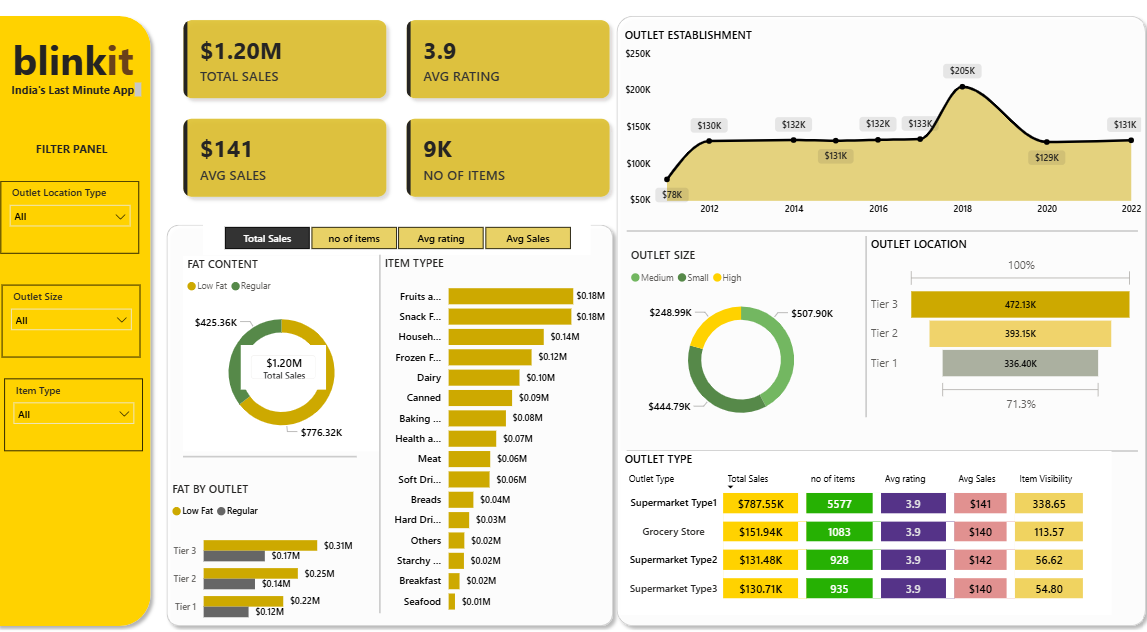

What the dashboard file says about the page in this screenshot:
{"tool":"powerbi","page":{"name":"Page 1","canvas":[1400,800],"ordinal":0},"visuals":[{"type":"shape","box":[0,15,204.1,750.4],"z":0},{"type":"textbox","box":[22.5,37.5,159.1,75],"z":1000},{"type":"textbox","box":[22.5,99.1,166.6,27],"z":2000},{"type":"cardVisual","fields":{"Data":["BlinkIT Grocery Data.Total Sales","BlinkIT Grocery Data.Avg rating","BlinkIT Grocery Data.Avg Sales","BlinkIT Grocery Data.no of items"]},"box":[205.6,0,570.3,270.2],"z":3000},{"type":"shape","box":[205.6,265.7,553.8,499.8],"z":4000},{"type":"donutChart","title":"FAT CONTENT","fields":{"Y":["BlinkIT Grocery Data.Total Sales"],"Category":["BlinkIT Grocery Data.Item Fat Content"]},"box":[234.1,312.2,237.1,234.1],"z":5000},{"type":"slicer","fields":{"Values":["Metrics.Metrics"]},"box":[258.1,270.2,465.3,40.5],"z":6000},{"type":"cardVisual","fields":{"Data":["BlinkIT Grocery Data.Total Sales"]},"box":[298.7,414.2,112.6,63],"z":7000},{"type":"clusteredBarChart","title":"FAT BY OUTLET","fields":{"Y":["BlinkIT Grocery Data.Total Sales"],"Category":["BlinkIT Grocery Data.Outlet Location Type"],"Series":["BlinkIT Grocery Data.Item Fat Content"]},"box":[216.1,582.3,226.6,183.1],"z":8000},{"type":"shape","box":[234.1,532.8,208.6,40.5],"z":9000},{"type":"shape","box":[457.8,310.7,25.5,430.7],"z":10000},{"type":"barChart","title":"ITEM TYPEE","fields":{"Y":["BlinkIT Grocery Data.Total Sales"],"Category":["BlinkIT Grocery Data.Item Type"]},"box":[471.3,310.7,274.7,441.3],"z":11000},{"type":"shape","box":[745.9,15,654.4,750.4],"z":12000},{"type":"lineChart","title":"OUTLET ESTABLISHMENT","fields":{"Category":["BlinkIT Grocery Data.Outlet Establishment Year"],"Y":["BlinkIT Grocery Data.Total Sales"]},"box":[759.4,37.5,630.4,235.6],"z":13000},{"type":"shape","box":[766.9,273.2,613.9,18],"z":14000},{"type":"donutChart","title":"OUTLET SIZE","fields":{"Y":["BlinkIT Grocery Data.Total Sales"],"Category":["BlinkIT Grocery Data.Outlet Size"]},"box":[766.9,301.7,275,225],"z":15000},{"type":"shape","box":[1041.6,288.2,25.5,217.6],"z":16000},{"type":"funnel","title":"OUTLET LOCATION","fields":{"Y":["Sum(BlinkIT Grocery Data.Sales)"],"Category":["BlinkIT Grocery Data.Outlet Location Type"]},"box":[1055.1,288.2,325.7,217.6],"z":17000},{"type":"shape","box":[766.9,537.3,613.9,18],"z":18000},{"type":"pivotTable","title":"OUTLET TYPE","fields":{"Rows":["BlinkIT Grocery Data.Outlet Type"],"Values":["BlinkIT Grocery Data.Total Sales","BlinkIT Grocery Data.no of items","BlinkIT Grocery Data.Avg rating","BlinkIT Grocery Data.Avg Sales","Sum(BlinkIT Grocery Data.Item Visibility)"]},"box":[759.4,546.3,589.8,196.6],"z":19000},{"type":"slicer","fields":{"Values":["BlinkIT Grocery Data.Outlet Location Type"]},"box":[15,222.1,166.6,87.1],"z":20000},{"type":"slicer","fields":{"Values":["BlinkIT Grocery Data.Outlet Size"]},"box":[16.5,346.7,166.6,87.1],"z":21000},{"type":"slicer","fields":{"Values":["BlinkIT Grocery Data.Item Type"]},"box":[19.5,459.3,166.6,87.1],"z":22000},{"type":"textbox","box":[15,168.1,171.1,36],"z":22001}]}

Visuals, with their boxes on the page's 1400x800 design canvas (x1, y1, x2, y2). These are canvas units, not pixel positions in the 1147x632 screenshot, which may show the page scaled, cropped or inside an application window:
shape: [x1=0, y1=15, x2=204, y2=765]
textbox: [x1=22, y1=38, x2=182, y2=112]
textbox: [x1=22, y1=99, x2=189, y2=126]
cardVisual - BlinkIT Grocery Data.Total Sales x BlinkIT Grocery Data.Avg rating: [x1=206, y1=0, x2=776, y2=270]
shape: [x1=206, y1=266, x2=759, y2=766]
"FAT CONTENT" donutChart: [x1=234, y1=312, x2=471, y2=546]
slicer - Metrics.Metrics: [x1=258, y1=270, x2=723, y2=311]
cardVisual - BlinkIT Grocery Data.Total Sales: [x1=299, y1=414, x2=411, y2=477]
"FAT BY OUTLET" clusteredBarChart: [x1=216, y1=582, x2=443, y2=765]
shape: [x1=234, y1=533, x2=443, y2=573]
shape: [x1=458, y1=311, x2=483, y2=741]
"ITEM TYPEE" barChart: [x1=471, y1=311, x2=746, y2=752]
shape: [x1=746, y1=15, x2=1400, y2=765]
"OUTLET ESTABLISHMENT" lineChart: [x1=759, y1=38, x2=1390, y2=273]
shape: [x1=767, y1=273, x2=1381, y2=291]
"OUTLET SIZE" donutChart: [x1=767, y1=302, x2=1042, y2=527]
shape: [x1=1042, y1=288, x2=1067, y2=506]
"OUTLET LOCATION" funnel: [x1=1055, y1=288, x2=1381, y2=506]
shape: [x1=767, y1=537, x2=1381, y2=555]
"OUTLET TYPE" pivotTable: [x1=759, y1=546, x2=1349, y2=743]
slicer - BlinkIT Grocery Data.Outlet Location Type: [x1=15, y1=222, x2=182, y2=309]
slicer - BlinkIT Grocery Data.Outlet Size: [x1=16, y1=347, x2=183, y2=434]
slicer - BlinkIT Grocery Data.Item Type: [x1=20, y1=459, x2=186, y2=546]
textbox: [x1=15, y1=168, x2=186, y2=204]
